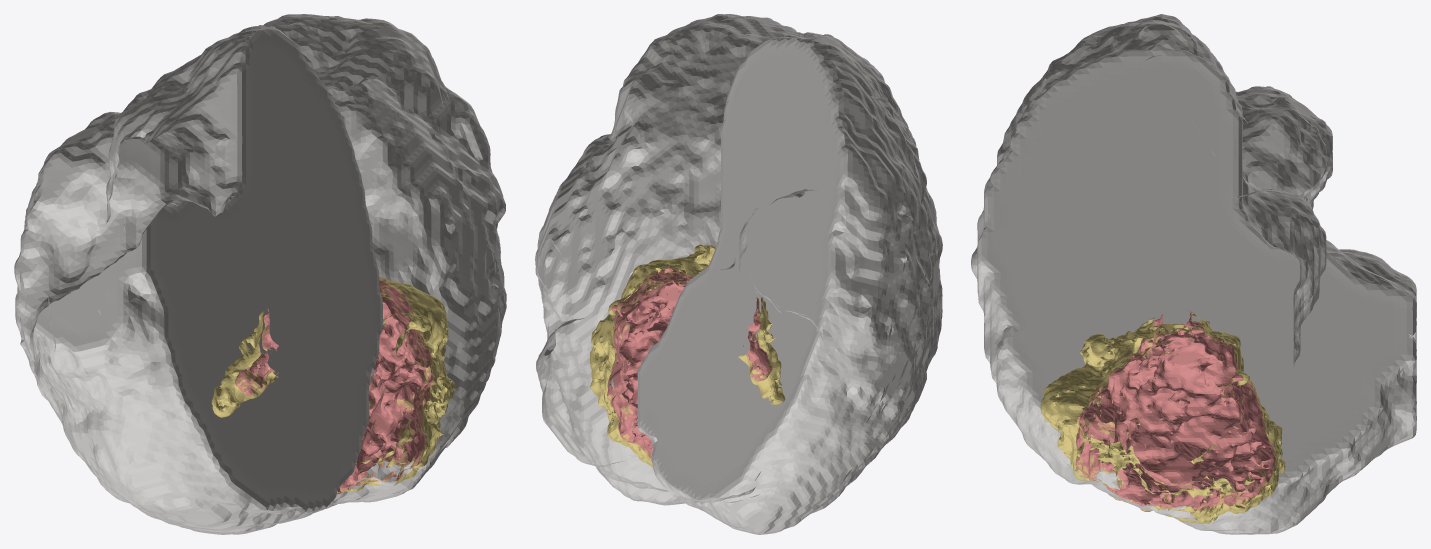
The picture shows the model from 3 angles, left to right: view 1: azimuth 30°, elevation 25°; view 2: azimuth 150°, elevation 25°; view 3: azimuth 270°, elevation 25°; orthographic projection. The views are drawn at different scales.
Parts seen in each view (by area): view 1: brain_left, brain_right, enhancing, edema, core; view 2: brain_left, brain_right, enhancing, edema, core; view 3: brain_right, enhancing, brain_left, edema, core.
Part boxes in pixels (bbox=[...]): brain_left: bbox=[14, 25, 383, 534]; brain_right: bbox=[263, 14, 506, 508]; enhancing: bbox=[235, 280, 436, 506]; edema: bbox=[211, 276, 454, 504]; core: bbox=[235, 279, 436, 504]; brain_left: bbox=[637, 32, 942, 534]; brain_right: bbox=[535, 14, 802, 505]; enhancing: bbox=[607, 268, 772, 459]; edema: bbox=[590, 244, 785, 469]; core: bbox=[607, 267, 772, 459]; brain_right: bbox=[971, 44, 1416, 534]; enhancing: bbox=[1076, 309, 1275, 511]; brain_left: bbox=[977, 14, 1416, 382]; edema: bbox=[1040, 310, 1285, 523]; core: bbox=[1076, 312, 1276, 513].
Size of the model in its own units: 134 by 160 by 138.
